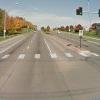Crosswalk: (2, 48, 100, 74)
